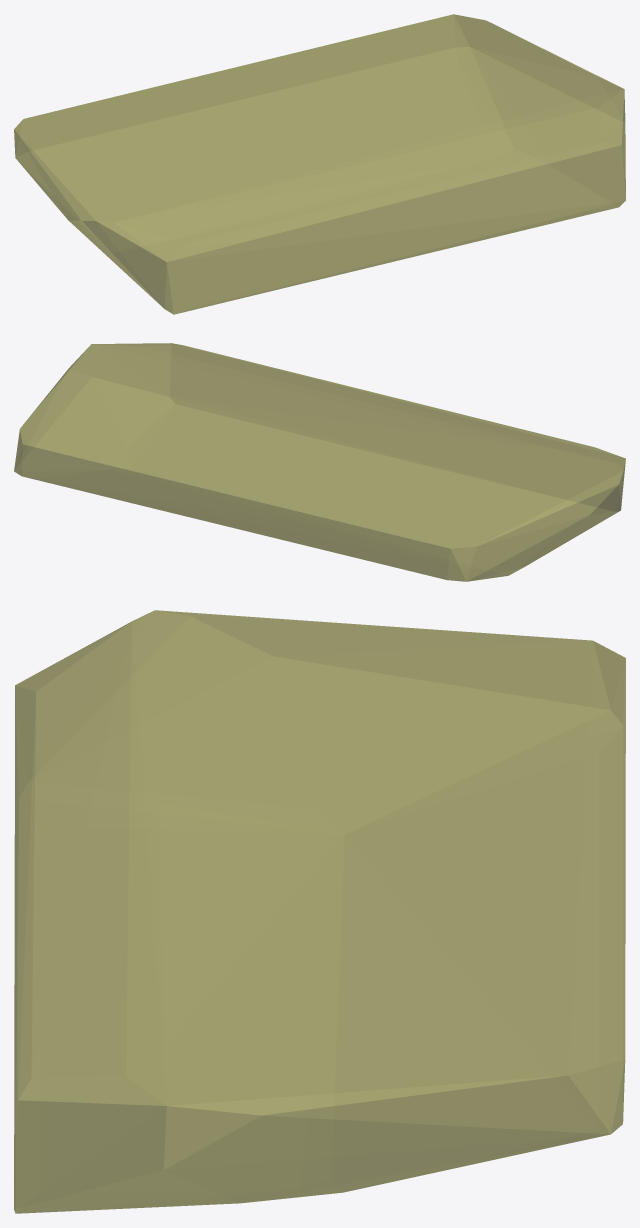
The picture shows the model from 3 angles, top to bottom: view 1: azimuth 30°, elevation 25°; view 2: azimuth 150°, elevation 25°; view 3: azimuth 270°, elevation 25°; orthographic projection. The views are drawn at different scales.
Parts seen in each view (by area): view 1: Shape_IndexedFaceSet.006_Shape_IndexedFaceSet.4760; view 2: Shape_IndexedFaceSet.006_Shape_IndexedFaceSet.4760; view 3: Shape_IndexedFaceSet.006_Shape_IndexedFaceSet.4760.
Part boxes in pixels (x1=…): Shape_IndexedFaceSet.006_Shape_IndexedFaceSet.4760: x1=14, y1=14, x2=625, y2=314; Shape_IndexedFaceSet.006_Shape_IndexedFaceSet.4760: x1=14, y1=343, x2=625, y2=581; Shape_IndexedFaceSet.006_Shape_IndexedFaceSet.4760: x1=14, y1=610, x2=625, y2=1213.
Size of the model in its own units: 0.7671 by 0.1164 by 0.3965.
